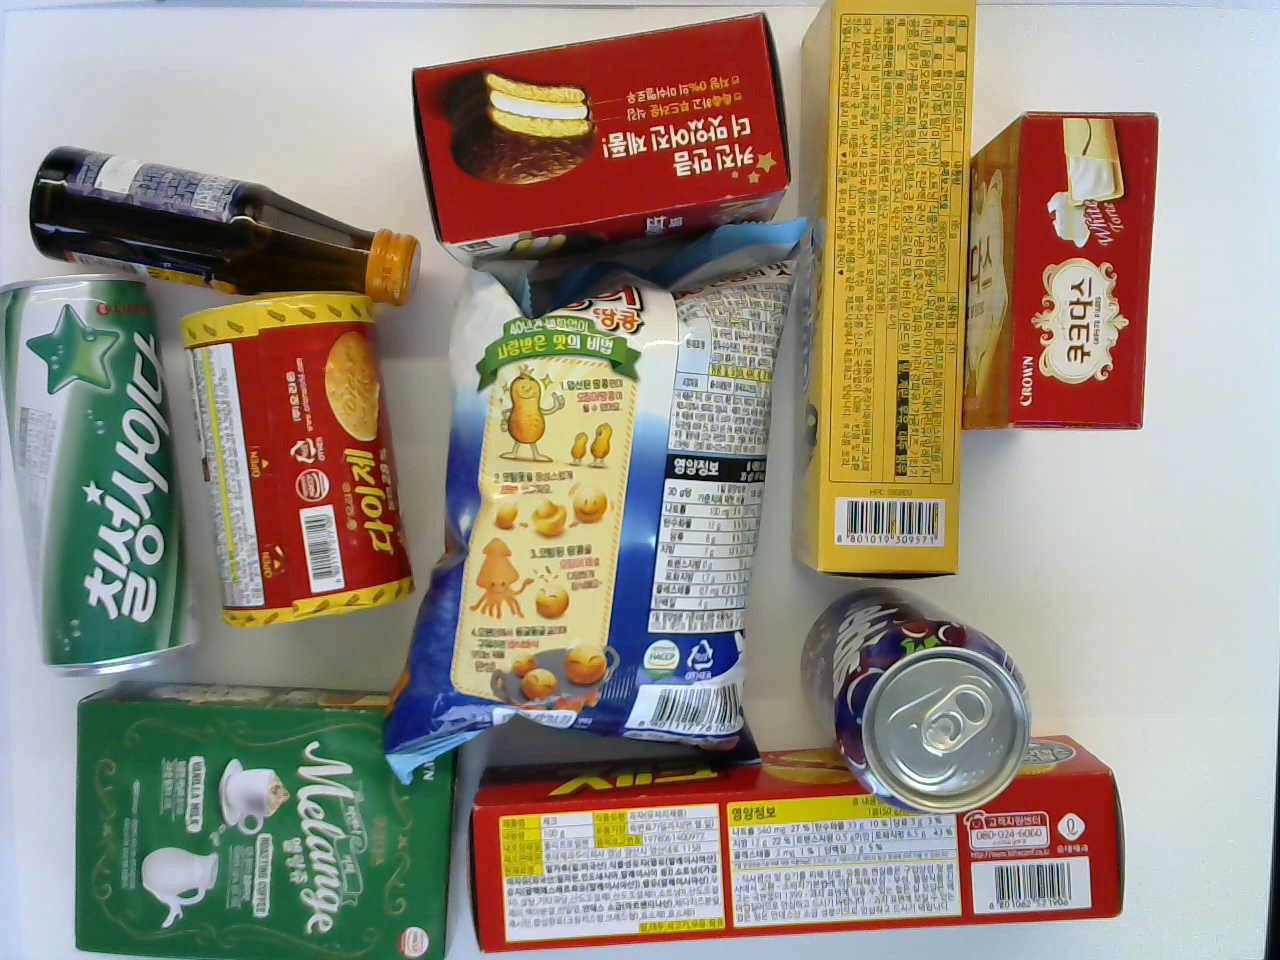buttering: (802, 2, 977, 574)
chocopie: (412, 10, 789, 243)
cidar: (3, 269, 187, 681)
couque_coffee: (74, 686, 461, 950)
couque_white: (949, 111, 1158, 431)
diget_ori: (180, 291, 408, 627)
squid_peanut: (378, 211, 806, 783)
vita500: (27, 142, 421, 301)
welchs: (804, 589, 1038, 806)
zec: (468, 733, 1122, 960)
